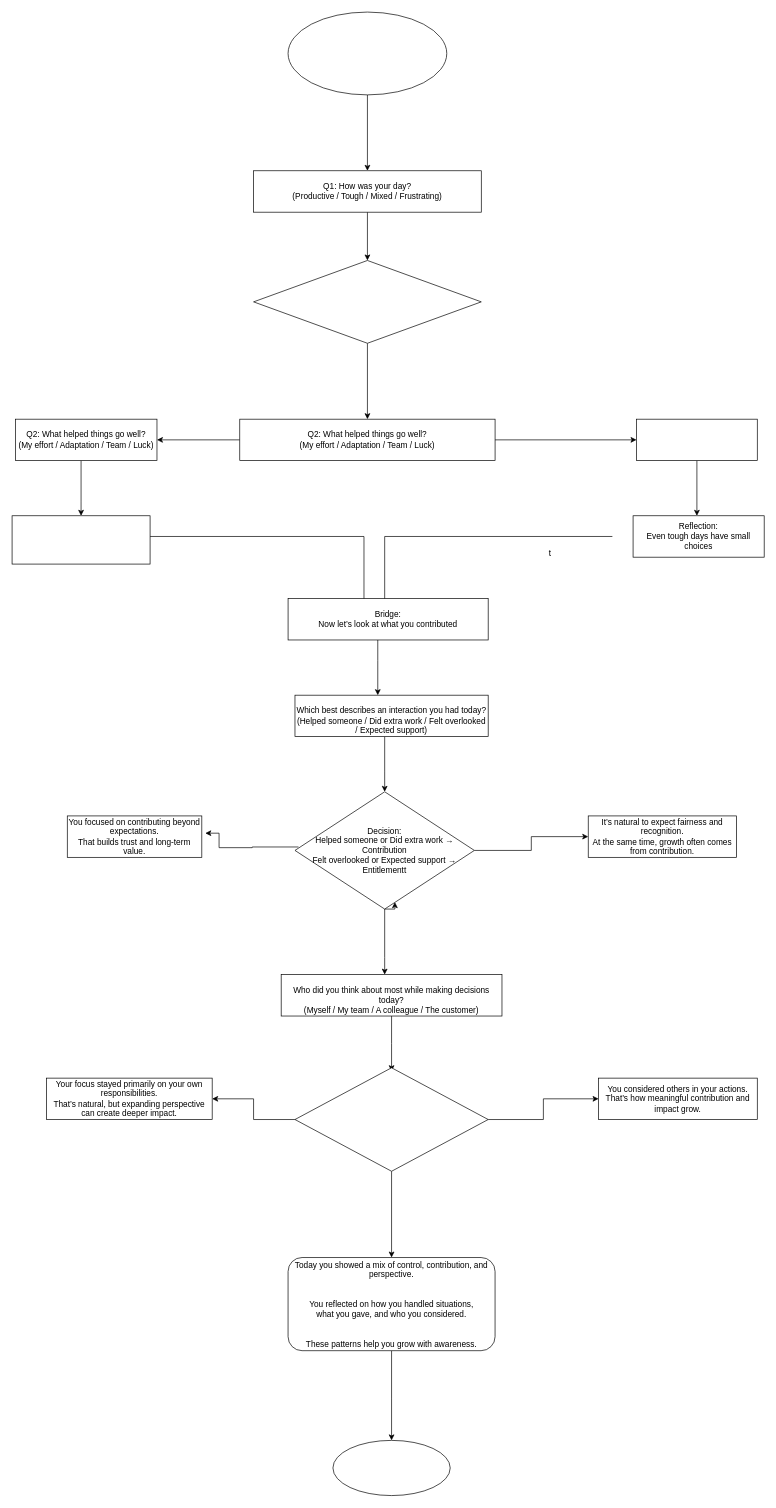
Some shapes in this 776 by 1508 pixel diagram are drawn without their labels. The centre of each missing label's shape, as x and y in pixels:
Decision: Productive/Mixed → Internal Tough/Frustrating → External: [367,301]
END See you tomorrow.: [391,1468]
Myself → Self-focused Team / Colleague / Customer → Other-focused: [391,1119]
Q2: What was your reaction? (Frustrated / Waited / Blamed / Tried something): [696,439]
Reflection: You showed agency today: [80,539]
START Good evening. Let’s reflect on your day: [367,53]
